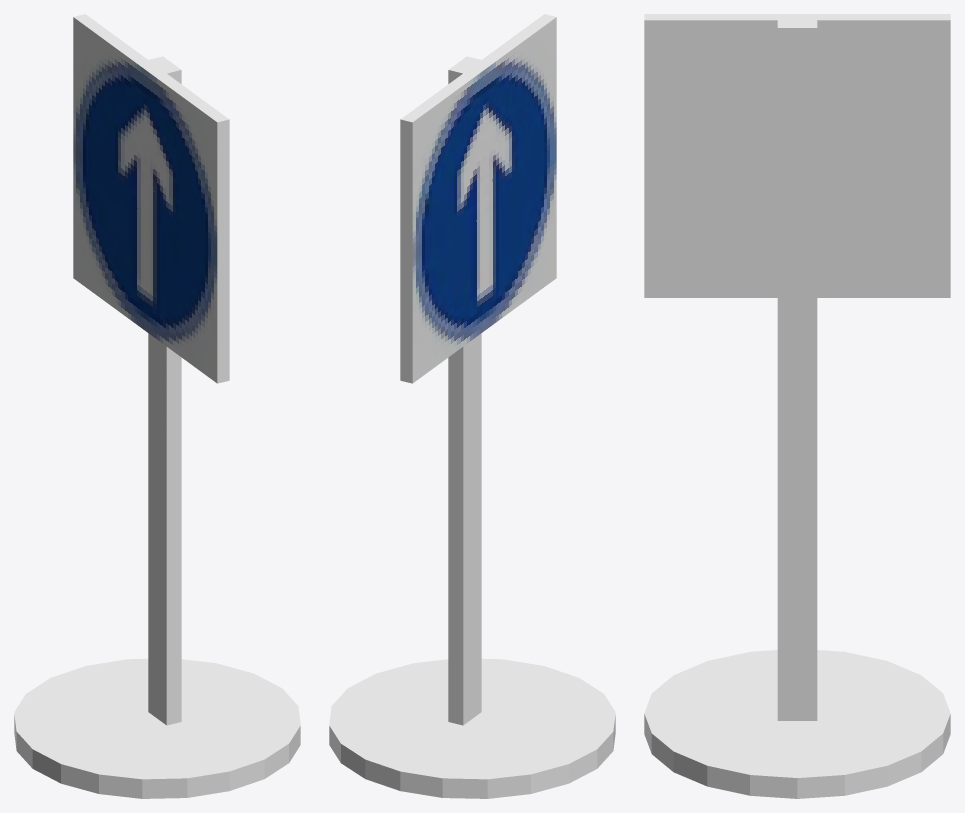
File: SignForward.dae
3 renders of one model, left to right at view 1: azimuth 30°, elevation 25°; view 2: azimuth 150°, elevation 25°; view 3: azimuth 270°, elevation 25°, orthographic. The views are drawn at different scales.
Parts seen in each view (by area): view 1: SignForward; view 2: SignForward; view 3: SignForward.
Boxes of the visible parts, x1=… form: SignForward: x1=14, y1=14, x2=300, y2=798; SignForward: x1=329, y1=14, x2=615, y2=798; SignForward: x1=644, y1=14, x2=950, y2=798.
Bounding box in the file's own units: 0.07 × 0.07 × 0.18.
